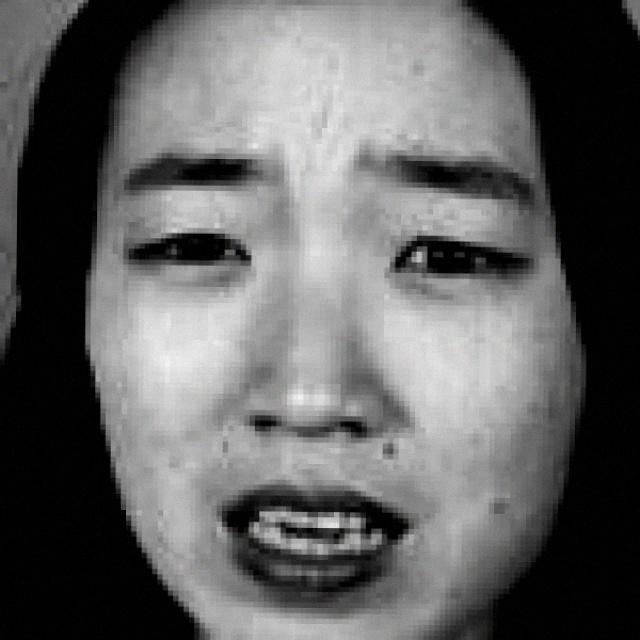fear: (103, 25, 560, 629)
